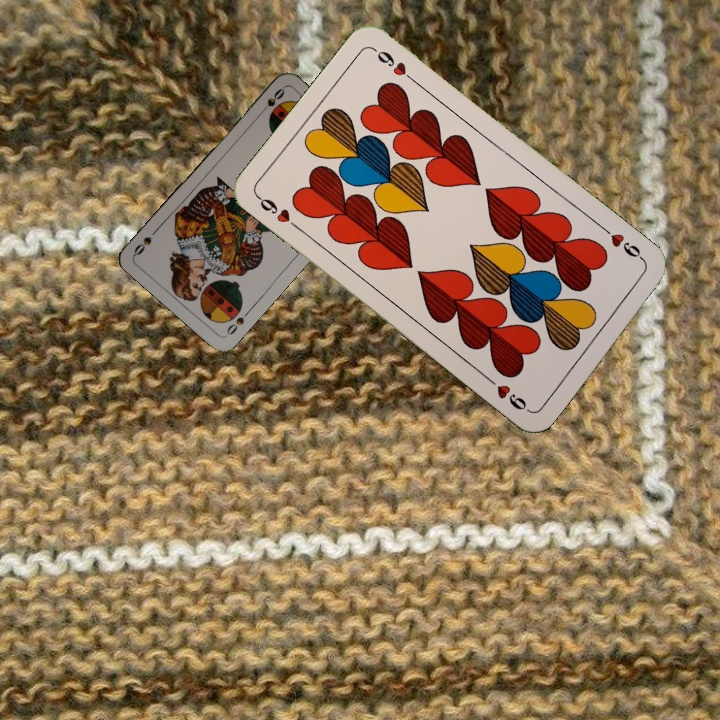H9: (598, 223, 648, 265), (253, 192, 304, 233)
SO: (256, 84, 287, 117), (222, 306, 253, 339)
